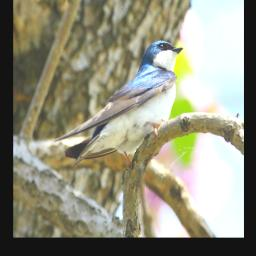Swallow: (53, 39, 184, 174)
